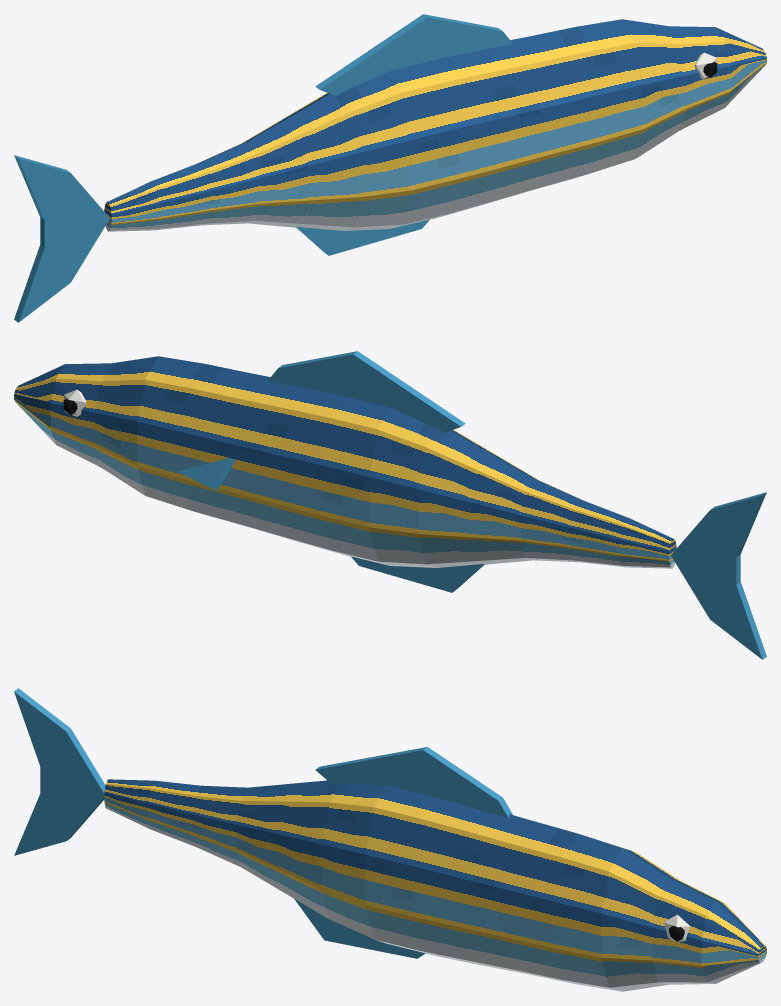
File: rainbow_runner.glb
3 views of the same model, one above another, from view 1: azimuth 30°, elevation 25°; view 2: azimuth 150°, elevation 25°; view 3: azimuth 330°, elevation 25° (orthographic).
Parts seen in each view (by area): view 1: fish_rainbow_runner; view 2: fish_rainbow_runner; view 3: fish_rainbow_runner.
Part boxes in pixels (left/top/right/bottom): fish_rainbow_runner: left=14, top=14, right=766, bottom=322; fish_rainbow_runner: left=14, top=351, right=766, bottom=659; fish_rainbow_runner: left=14, top=688, right=766, bottom=991.
Bounding box in the file's own units: 1.14 × 0.3129 × 0.1501.
Materials: 4 (1 with a texture image).
